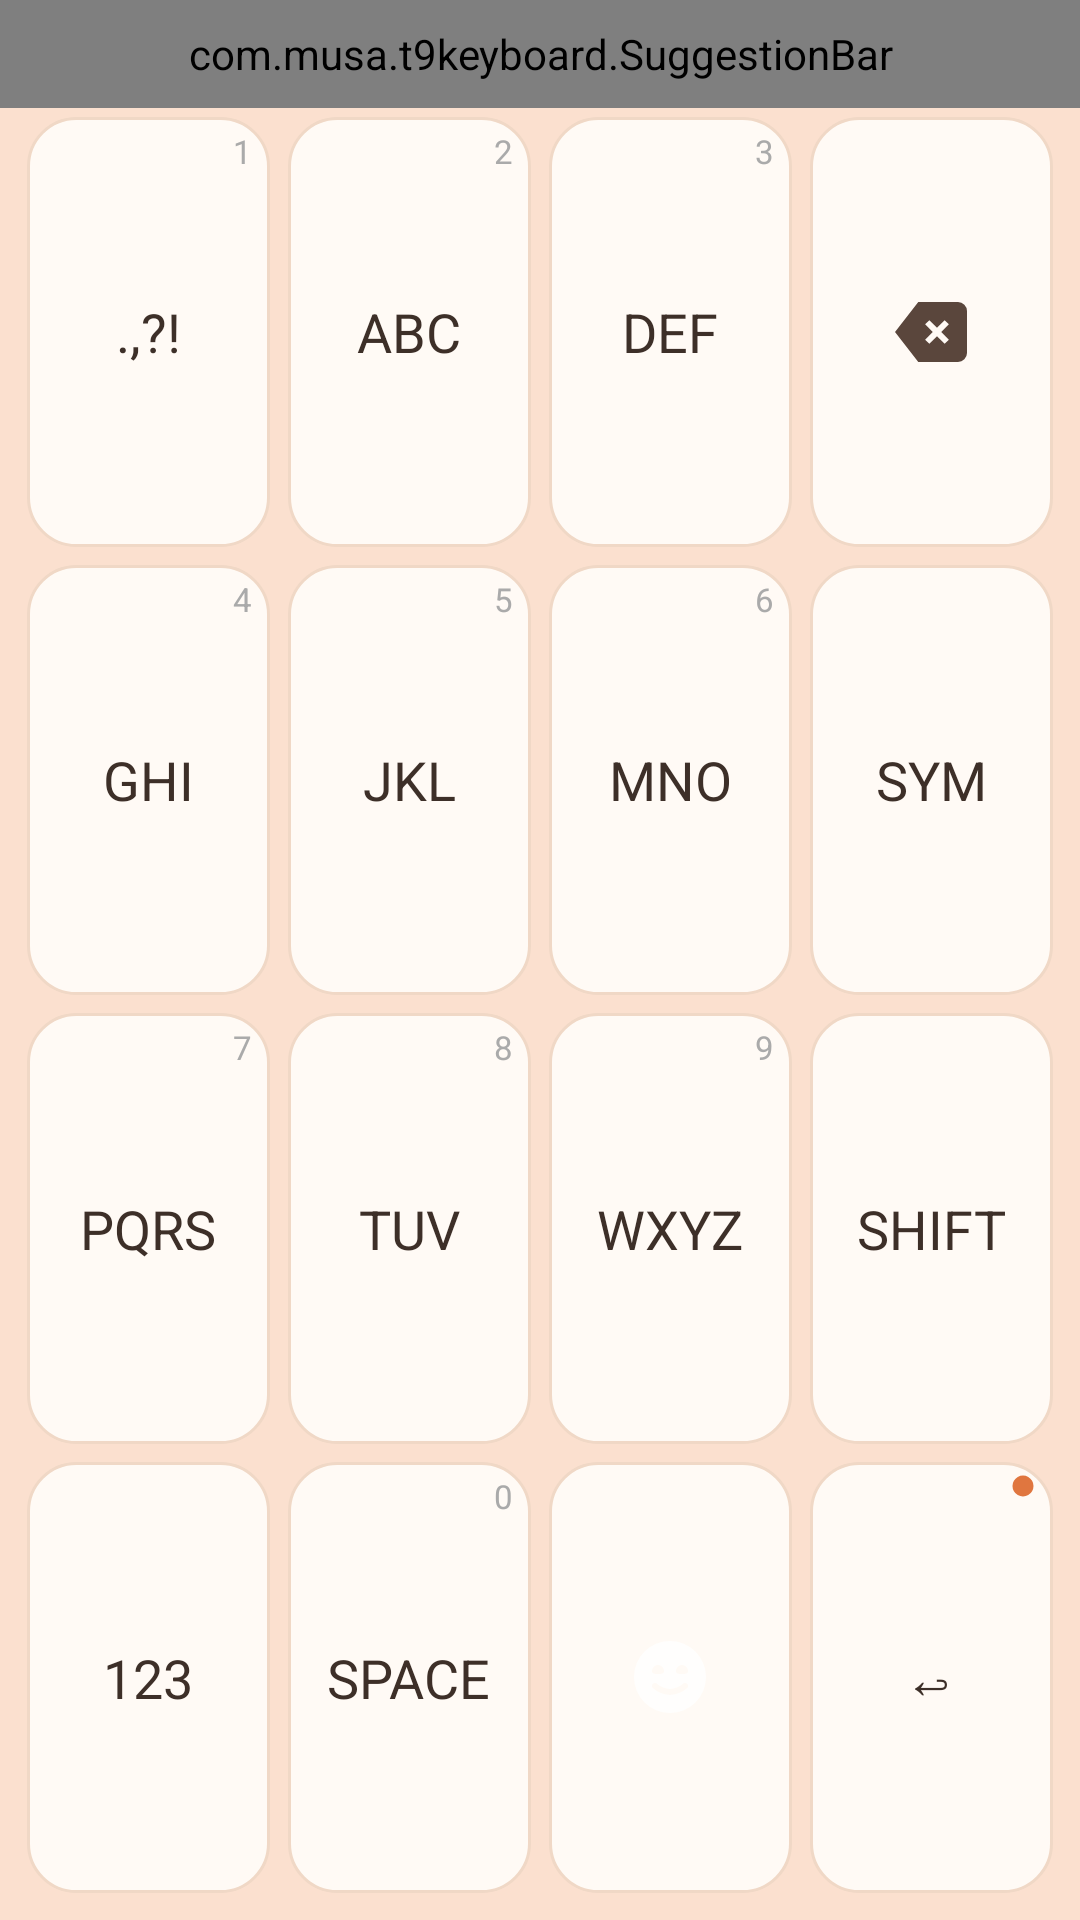

Icon bounding boxes for this 1080w x 1920h phone screenshot, format (x1, y1, x2, y2):
delete: (895, 302, 967, 362)
